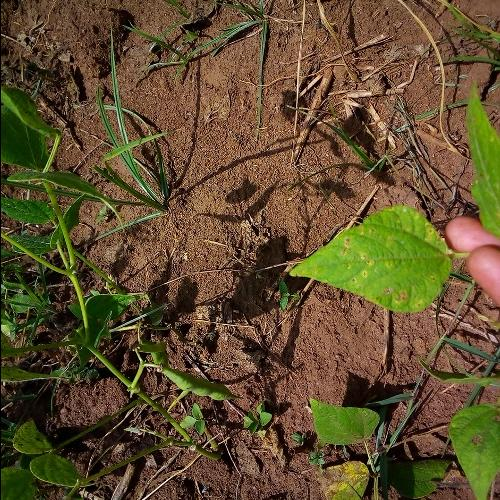mozaik: (332, 210, 461, 312)
